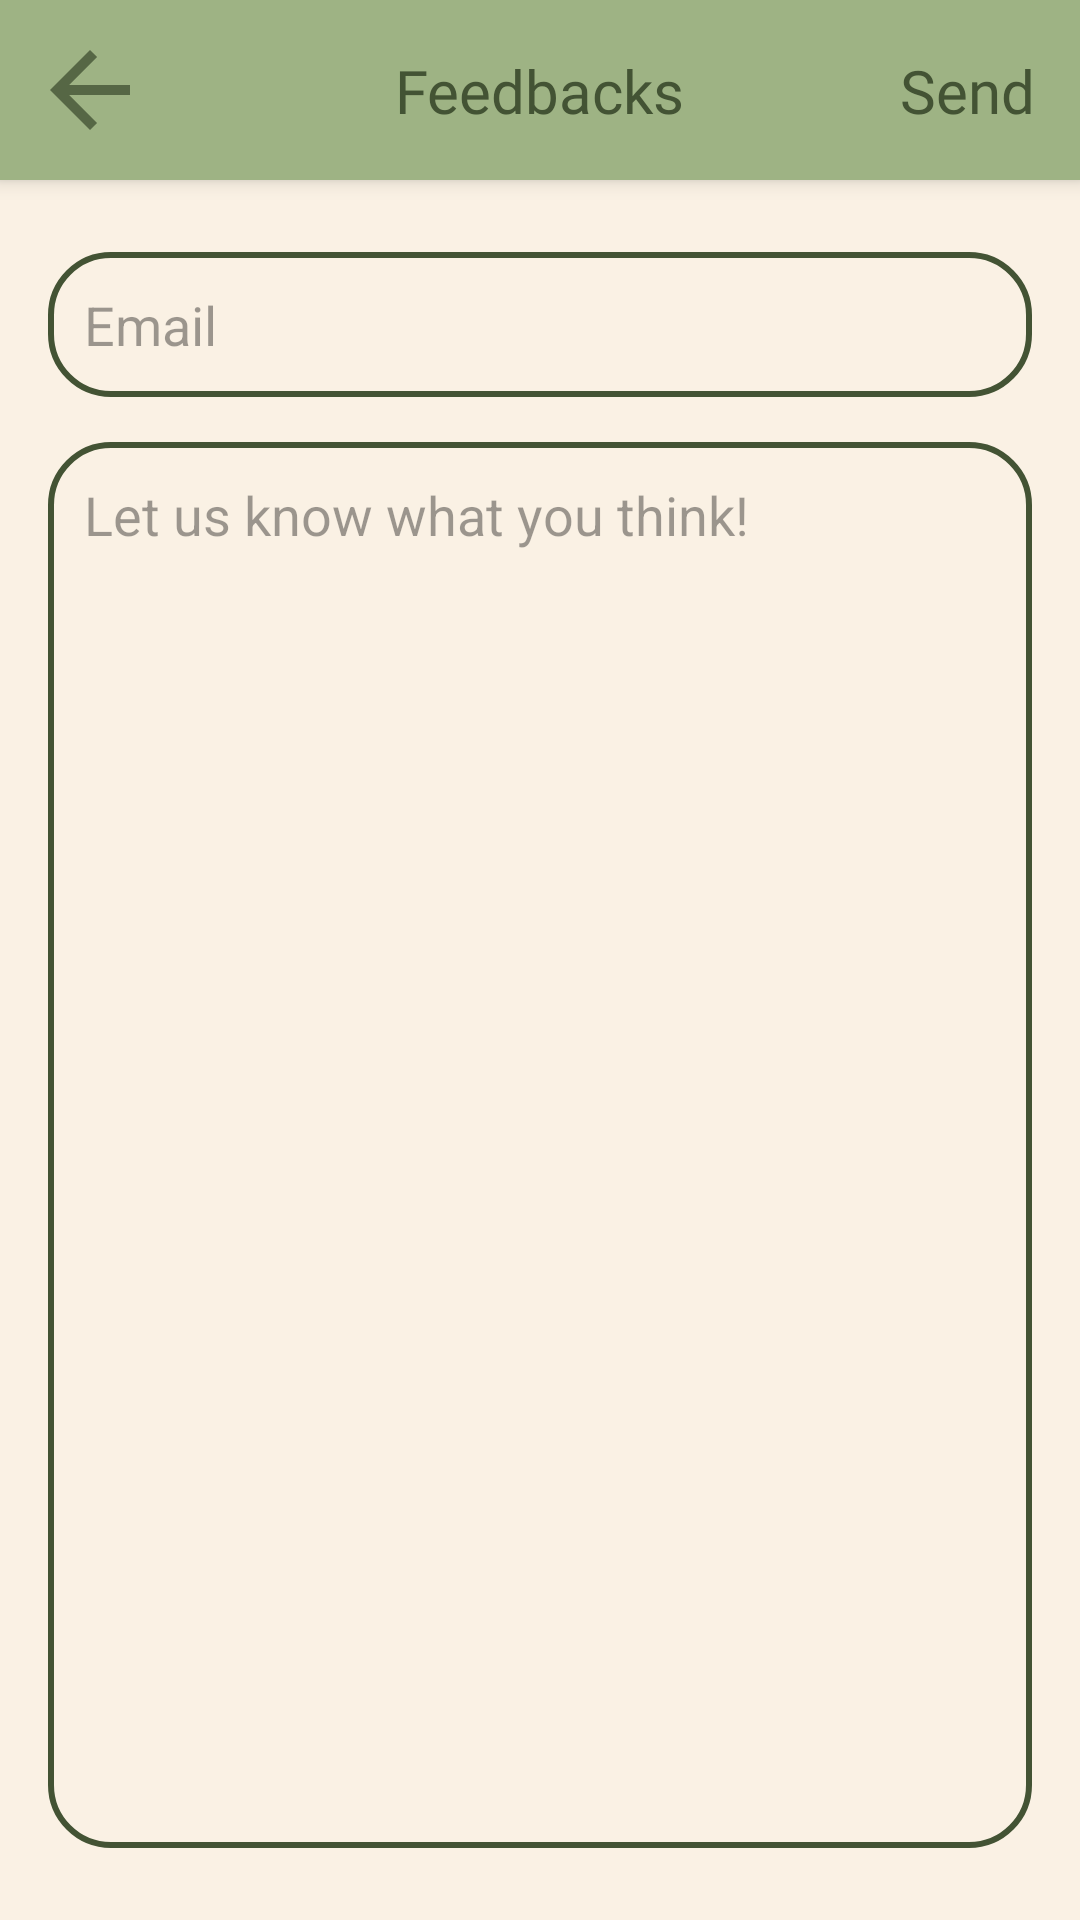

Icons on this 1080 × 1920 Android screen, each with its box as [x1=x1, y1=y1, x2=x2, y2=y2]:
Back Button: [x1=50, y1=50, x2=130, y2=130]
